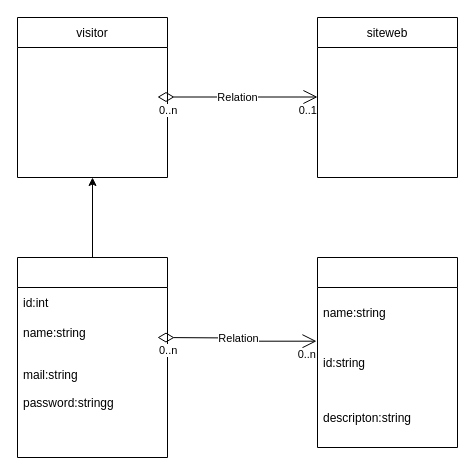
The diagram is 475 pixels wide and 475 high, and some of its shapes have lost their labels. Here are the shapes that lost their labels. From the top down, the box of each, then its label:
(16, 256, 168, 458): List
(316, 256, 458, 448): prooduct
